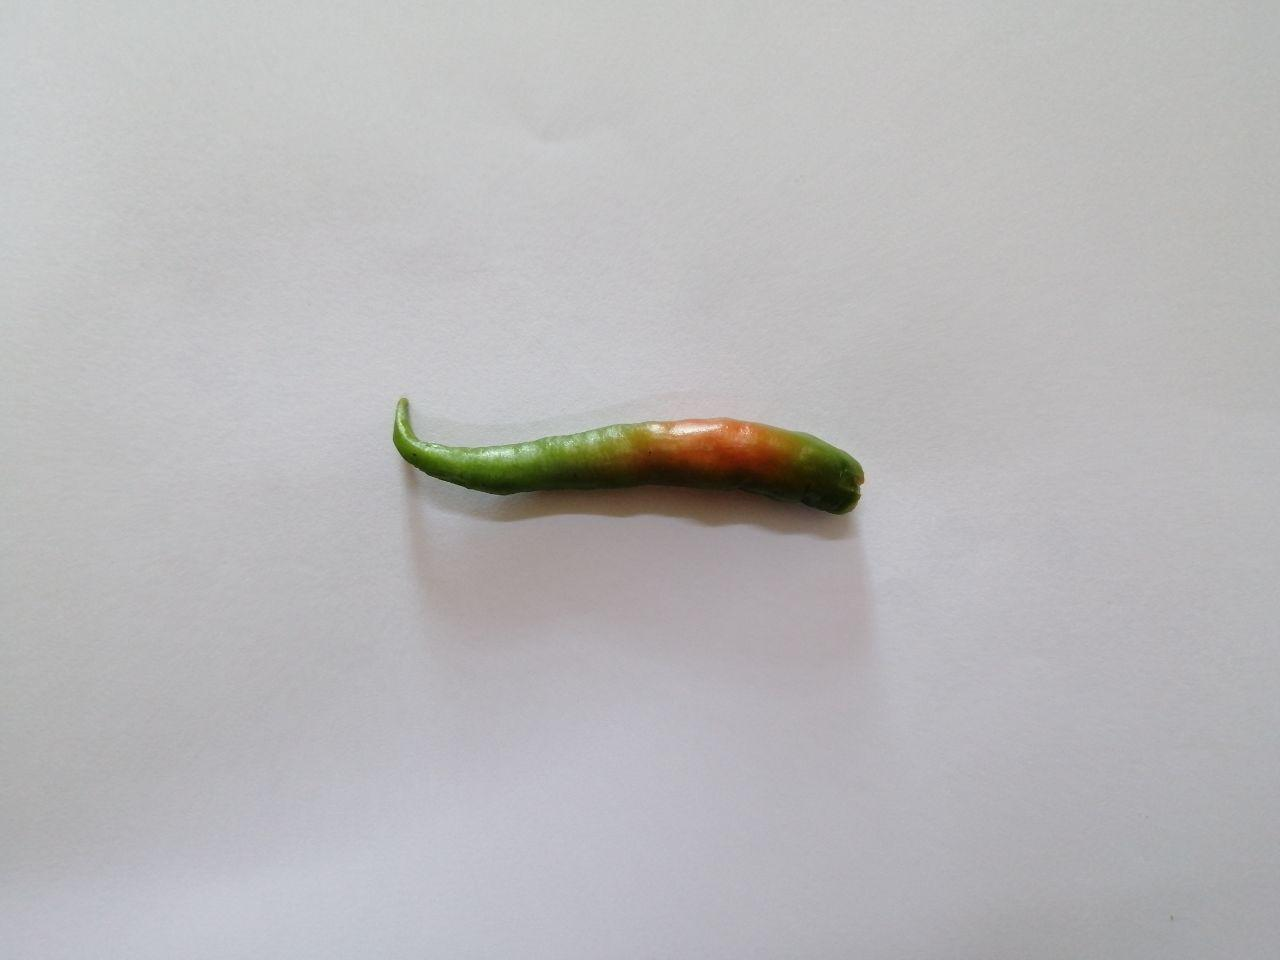lada hijau: (366, 368, 894, 550)
